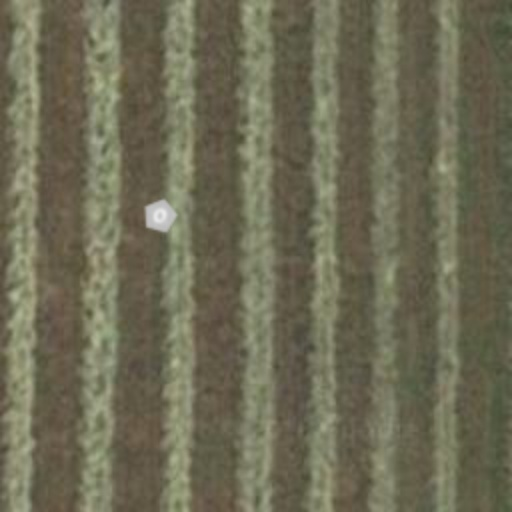pentagon: (140, 196, 180, 236)
